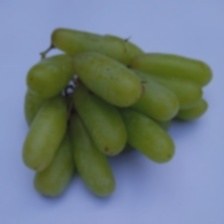grapes: (6, 35, 182, 211)
